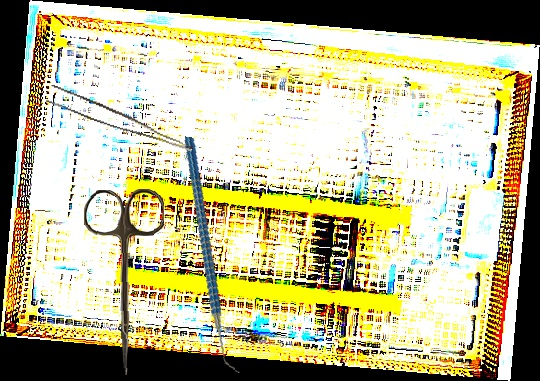Chopper: (146, 136, 280, 374)
Iris Scissors: (83, 188, 170, 376)
Tissue Forceps: (44, 84, 199, 152)
